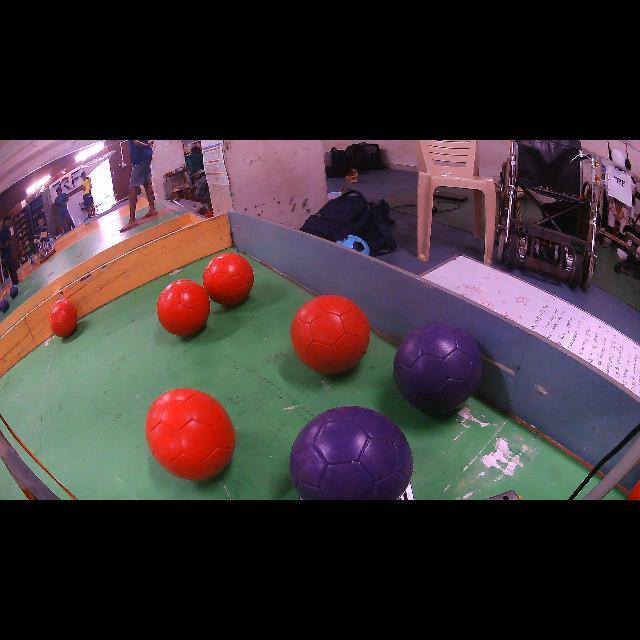P: (290, 406, 412, 500), (392, 321, 482, 414), (0, 298, 10, 312)
R: (147, 390, 236, 477), (290, 295, 370, 374), (156, 280, 210, 336), (202, 252, 254, 305), (50, 299, 78, 338)
